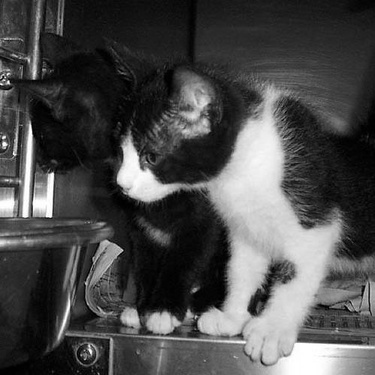cat: (105, 34, 372, 365), (4, 29, 273, 340)
